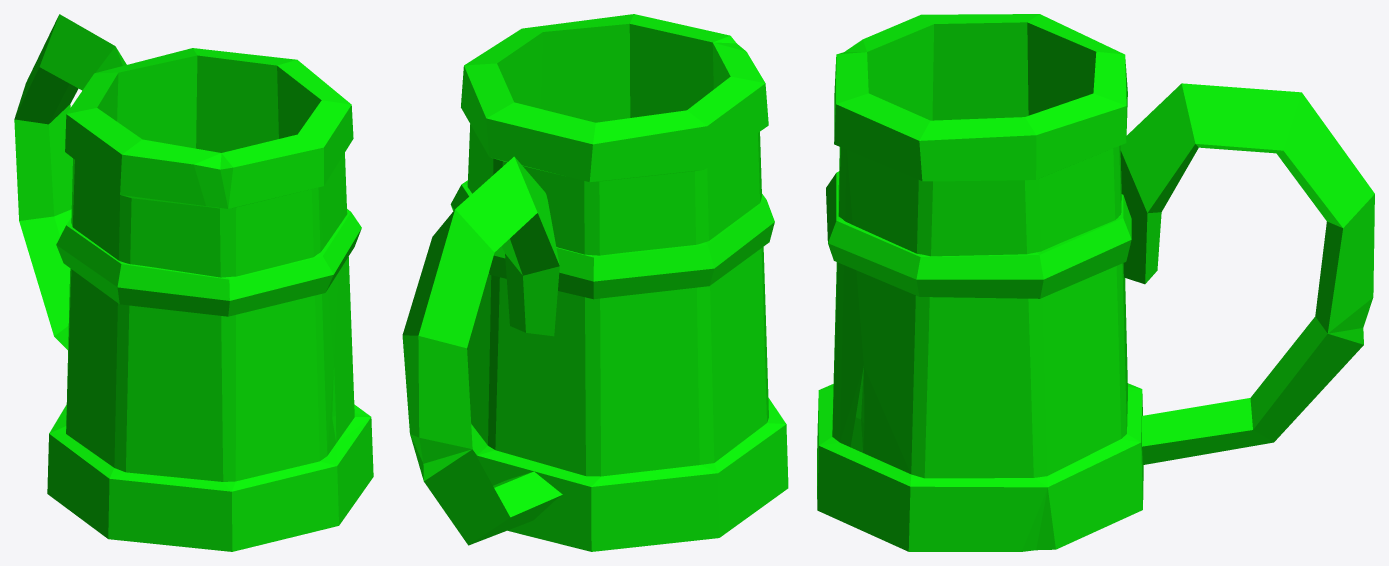
Rendered from SM_Beer_Glass_Wood_A_Fantasy.fbx.
3 views of the same model, side by side, from view 1: azimuth 30°, elevation 25°; view 2: azimuth 150°, elevation 25°; view 3: azimuth 270°, elevation 25° (orthographic). The views are drawn at different scales.
Visible parts, largest first — view 1: beer-glass-wood-a-fantasy; view 2: beer-glass-wood-a-fantasy; view 3: beer-glass-wood-a-fantasy.
Boxes of the visible parts, x1,y1,x2,y2 form: beer-glass-wood-a-fantasy: (14, 14, 373, 551); beer-glass-wood-a-fantasy: (402, 14, 788, 551); beer-glass-wood-a-fantasy: (817, 14, 1374, 551).
Bounding box in the file's own units: 0.1013 × 0.1408 × 0.1722.
